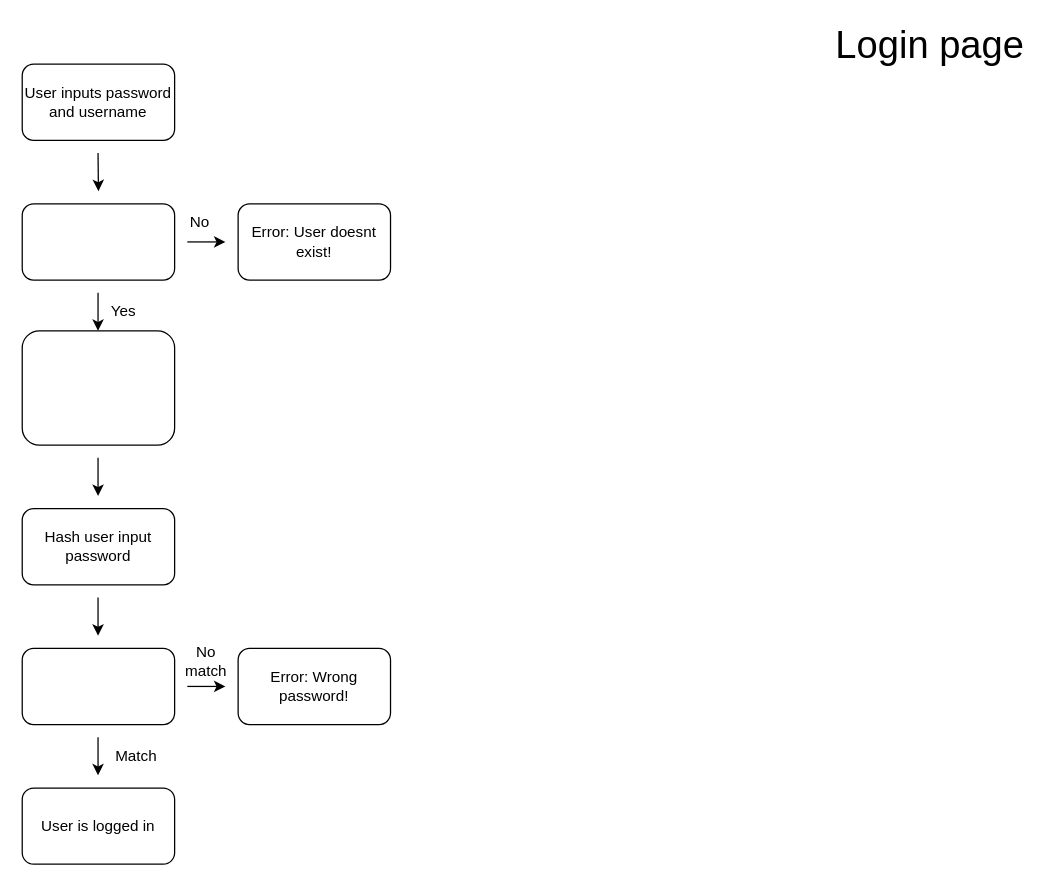
The diagram is 1060 pixels wide and 886 high, and some of its shapes have lost their labels. Here are the shapes that lost their labels. From the top down, the centre of each, then its label:
At (98,241): "Does username exist in database?".
At (98,387): "Get password from database where username equals username that was inputted".
At (98,686): "Compare database password hash with password hash from user input".
